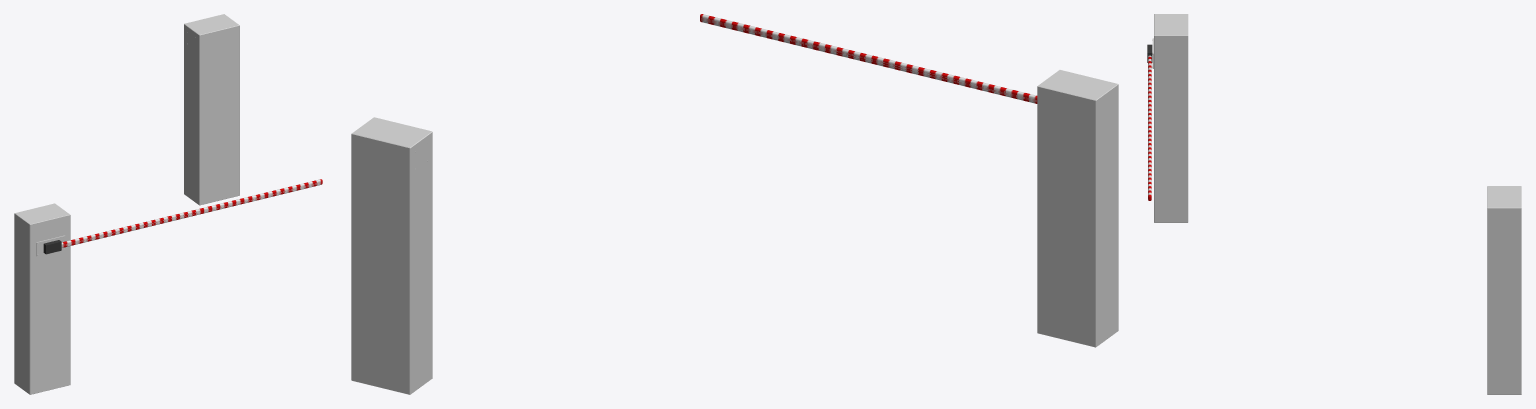
Rendered from gate.FBX.
The picture shows the model from 3 angles, left to right: view 1: azimuth 30°, elevation 25°; view 2: azimuth 150°, elevation 25°; view 3: azimuth 270°, elevation 25°; orthographic projection. The views are drawn at different scales.
Visible parts, largest first — view 1: gate_controller, gate_block, gate; view 2: gate_block, gate_controller, gate; view 3: gate_block, gate_controller, gate.
Part boxes in pixels (x1,y1,x2,y2): gate_controller: (184, 14, 239, 205); gate_block: (14, 203, 70, 394); gate: (43, 179, 322, 254); gate_block: (1037, 70, 1118, 347); gate_controller: (351, 117, 432, 394); gate: (700, 14, 1037, 103); gate_block: (1152, 14, 1188, 222); gate_controller: (1487, 186, 1521, 394); gate: (1147, 44, 1152, 200).
Size of the model in its own units: 2664 by 1200 by 2174.
